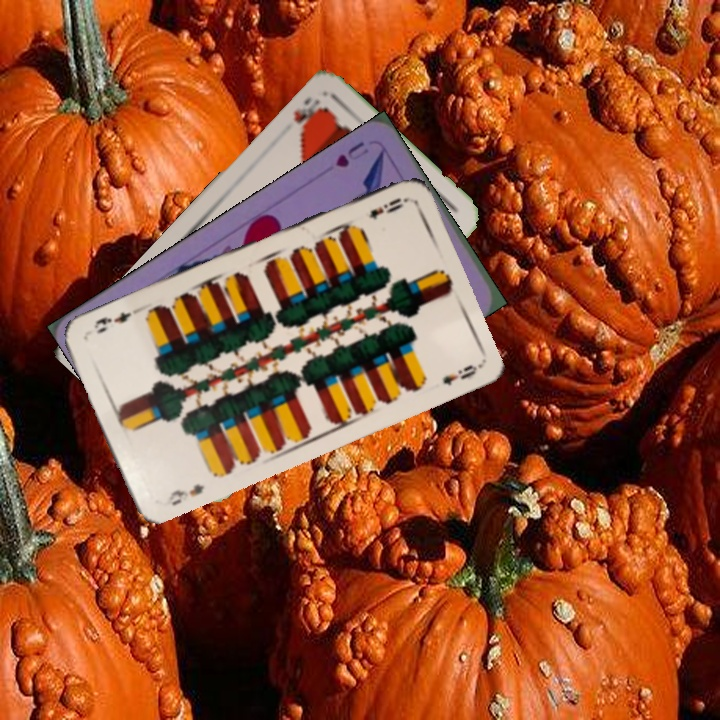E9: (157, 479, 207, 510), (365, 193, 409, 223)
HO: (289, 92, 328, 132)
HU: (331, 137, 371, 171)
